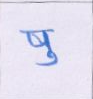u_matra: (37, 50, 60, 67)
